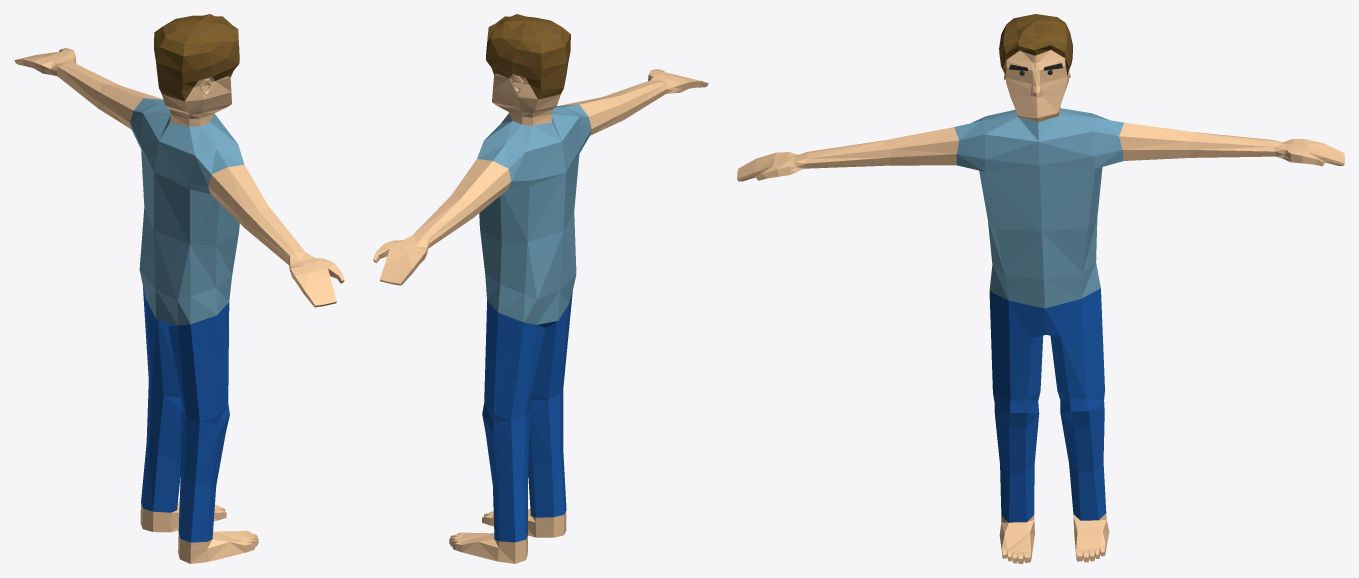
The model's file is player.gltf.
The picture shows the model from 3 angles, left to right: view 1: azimuth 30°, elevation 25°; view 2: azimuth 150°, elevation 25°; view 3: azimuth 270°, elevation 25°; orthographic projection.
Visible parts, largest first — view 1: Human_Mesh; view 2: Human_Mesh; view 3: Human_Mesh.
Part boxes in pixels (left/top/right/bottom): Human_Mesh: left=14, top=14, right=344, bottom=563; Human_Mesh: left=373, top=14, right=708, bottom=563; Human_Mesh: left=737, top=14, right=1344, bottom=563.
Bounding box in the file's own units: 1.49 × 8.02 × 8.52.
Materials: 1 (1 with a texture image).
